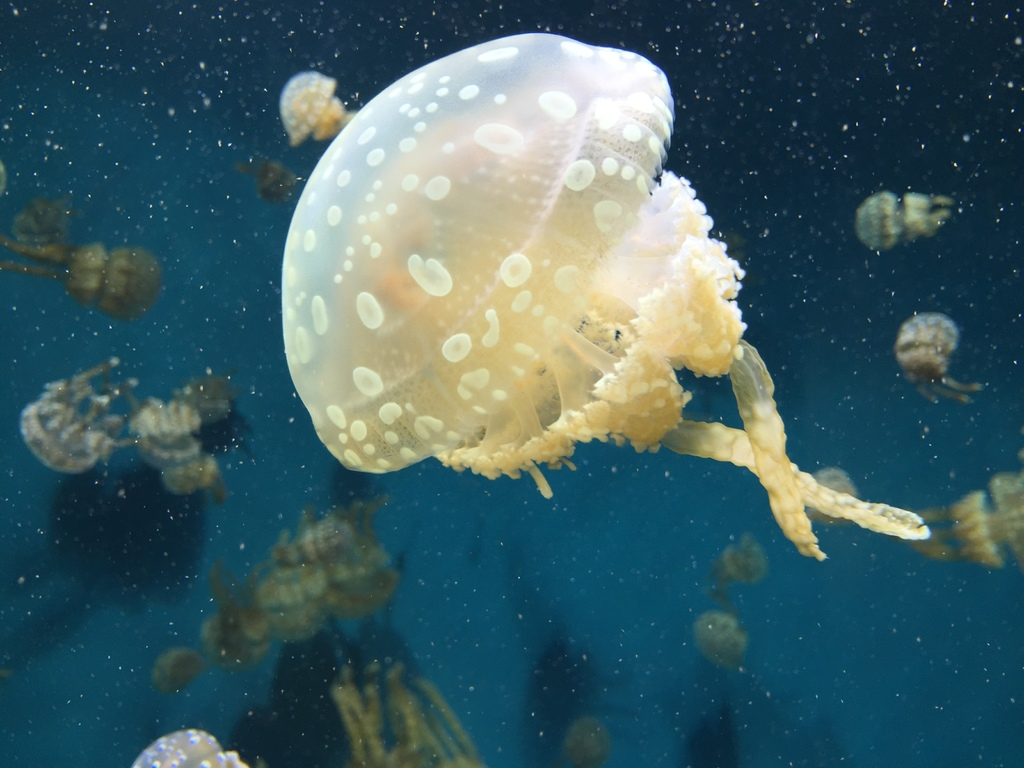Jellyfish: (275, 28, 931, 561), (0, 227, 163, 318), (17, 363, 130, 478), (905, 473, 1023, 568), (888, 311, 988, 404), (126, 400, 216, 494), (856, 186, 950, 255), (281, 71, 355, 140), (130, 727, 249, 767)
